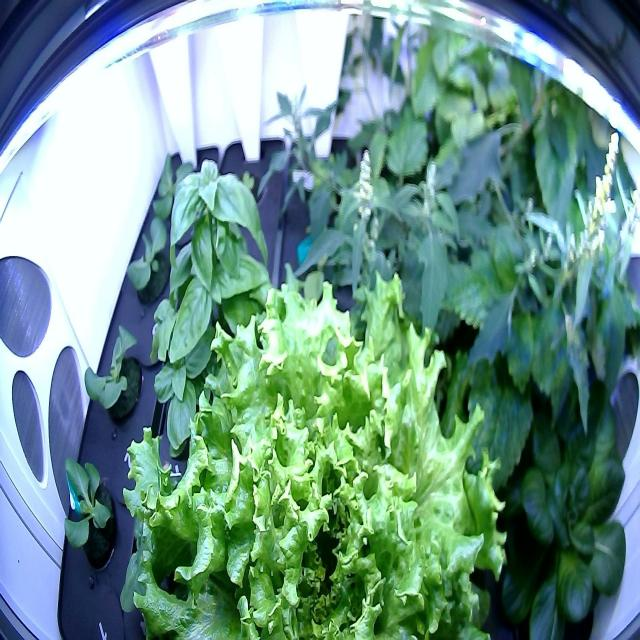Ready: (471, 339, 640, 637)
young: (50, 448, 126, 582), (72, 315, 151, 439), (120, 207, 180, 322), (143, 143, 205, 236), (223, 148, 270, 222)
